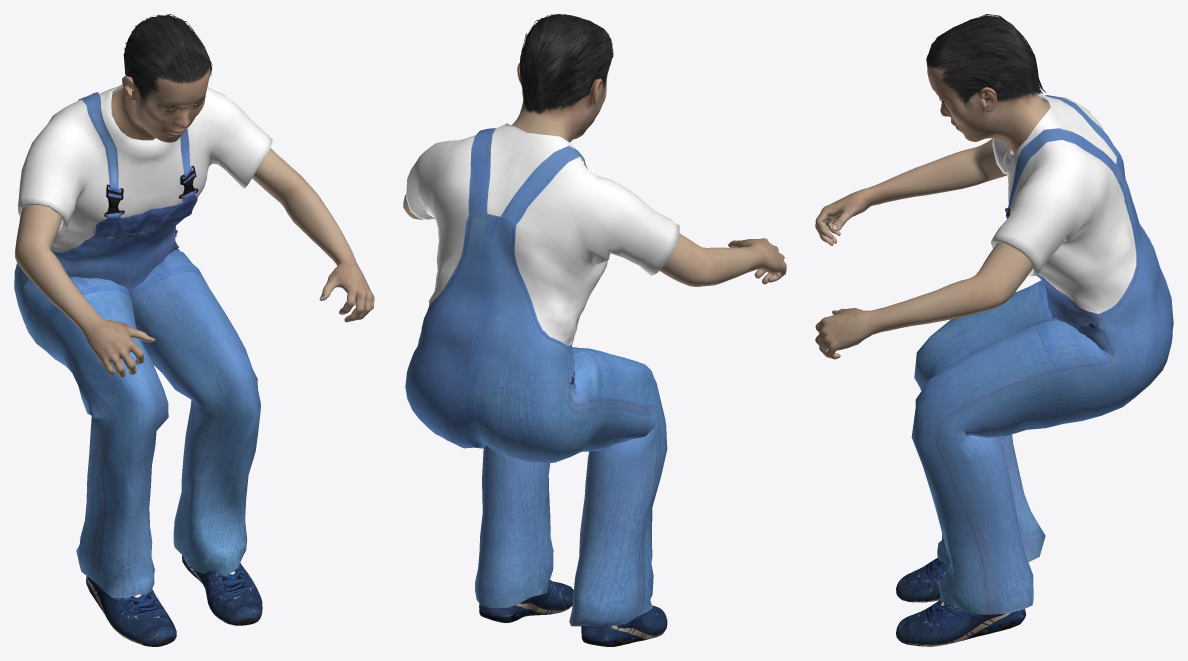
File: uomo-04.glb
The picture shows the model from 3 angles, left to right: view 1: azimuth 30°, elevation 25°; view 2: azimuth 150°, elevation 25°; view 3: azimuth 270°, elevation 25°; orthographic projection. The views are drawn at different scales.
Visible parts, largest first — view 1: Human.male_worksuit01, Human, Human.shoes06, Human.short04; view 2: Human.male_worksuit01, Human, Human.short04, Human.shoes06; view 3: Human.male_worksuit01, Human, Human.short04, Human.shoes06.
Boxes of the visible parts, x1,y1,x2,y2 form: Human.male_worksuit01: (14, 84, 272, 598); Human: (15, 67, 374, 377); Human.shoes06: (86, 555, 262, 646); Human.short04: (123, 14, 212, 105); Human.male_worksuit01: (405, 123, 679, 626); Human: (403, 63, 786, 286); Human.short04: (519, 14, 613, 114); Human.shoes06: (479, 580, 667, 646); Human.male_worksuit01: (911, 94, 1173, 614); Human: (815, 62, 1050, 359); Human.short04: (926, 14, 1045, 109); Human.shoes06: (896, 558, 1025, 646).
Size of the model in its own units: 0.6888 by 1.33 by 0.723.
12 materials, 12 textured.
